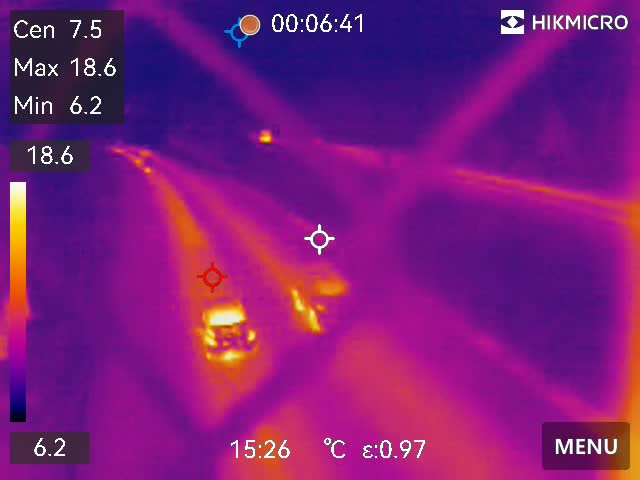vehicle: (192, 288, 259, 363)
